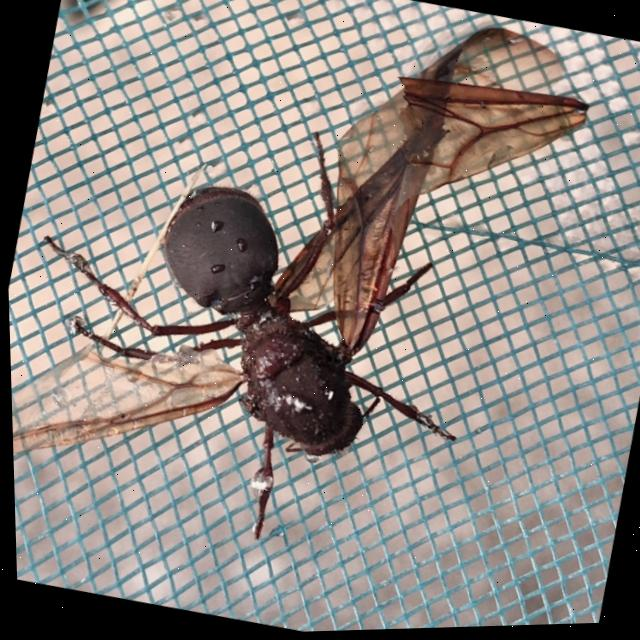Dead-Female-Alate: (0, 0, 612, 599)
